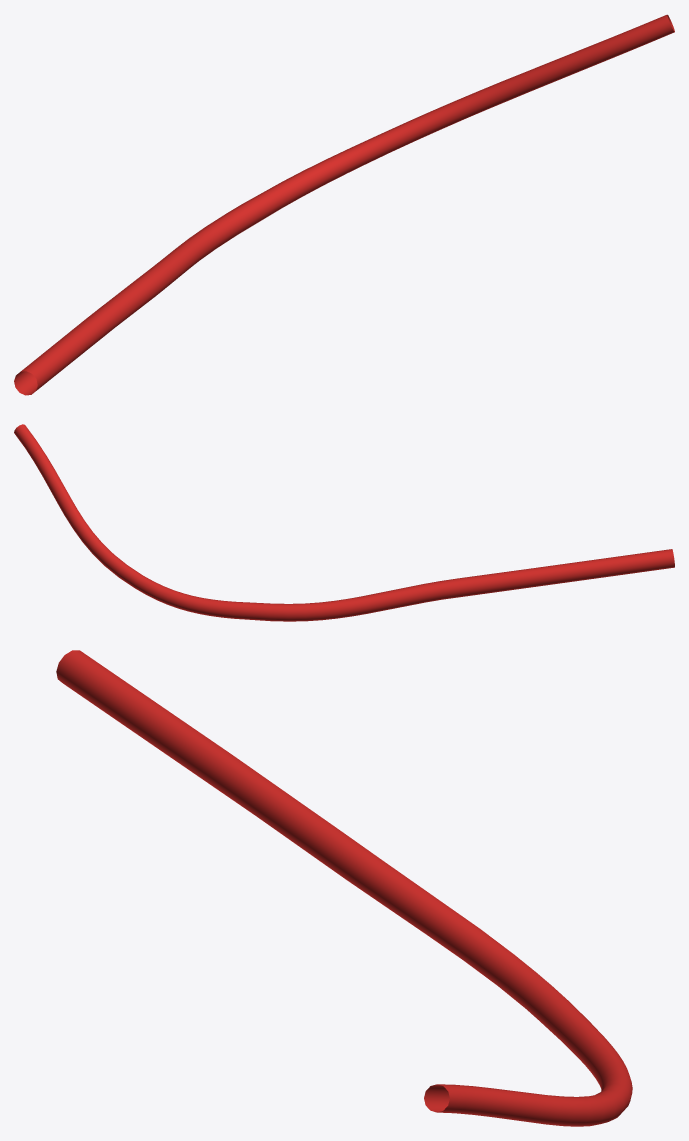
File: circulatorio-posterior-circumflex-humeral-artery-l.glb
The picture shows the model from 3 angles, top to bottom: view 1: azimuth 30°, elevation 25°; view 2: azimuth 150°, elevation 25°; view 3: azimuth 270°, elevation 25°; orthographic projection. The views are drawn at different scales.
Visible parts, largest first — view 1: Posterior circumflex humeral artery.l; view 2: Posterior circumflex humeral artery.l; view 3: Posterior circumflex humeral artery.l.
Boxes of the visible parts, left/top/right/bottom form: Posterior circumflex humeral artery.l: left=14, top=14, right=674, bottom=395; Posterior circumflex humeral artery.l: left=14, top=424, right=674, bottom=621; Posterior circumflex humeral artery.l: left=56, top=650, right=632, bottom=1126.
Bounding box in the file's own units: 0.0559 × 0.01 × 0.0244.
